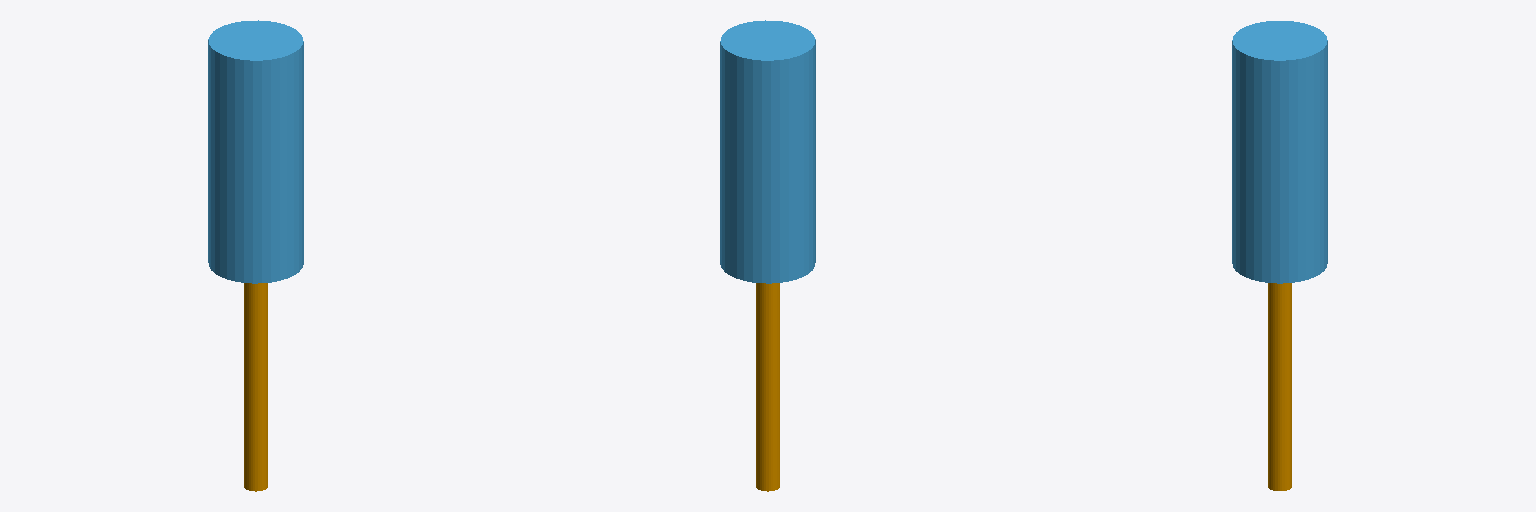
robot.urdf — screwdriver_on_the_table:
<?xml version="1.0" ?>
<!-- this is the one without any virtual joints and links -->
<robot name="screwdriver_on_the_table">
<link name="screwdriver_stick">
    <inertial>
      <mass value="0.05"/>
      <!-- <friction value="1.0"/> -->
      <inertia ixx="0.000041979" ixy="0.0" ixz="0.0" iyy="0.000041979" iyz="0.0" izz="0.000000625"/>
    </inertial>
    <visual>
        <origin rpy="0 0 0" xyz="0 0 0.05"/>
        <geometry>
            <cylinder radius="0.005" length="0.1"/>
        </geometry>
        <!-- <material name="White">
	 	    <color rgba="0.9 0.9 0.9 0.5"/>
        </material> -->
    </visual>
    <collision>
        <origin rpy="0 0 0" xyz="0 0 0.05"/>
        <geometry>
            <cylinder radius="0.005" length="0.1"/>
        </geometry>
    </collision>
</link>

<gazebo reference="screwdriver_body">
    <mu1>0.816765</mu1>
    <mu2>0.872308</mu2>
    <!-- Isaac Sim maps mu1/mu2 to PhysX static/dynamic friction during URDF→USD import -->
</gazebo>

<joint name="screwdriver_stick_body_joint" type="fixed">
    <parent link="screwdriver_stick"/>
    <child link="screwdriver_body"/>
    <origin rpy="0 0 0" xyz="0 0 0.1"/> 
    <axis xyz="0 0 1"/>
</joint>

<link name="screwdriver_body">
    <inertial>
      <mass value="0.093770"/>
      <inertia ixx="0.000086952" ixy="0.0" ixz="0.0" iyy="0.000086952" iyz="0.0" izz="0.000017620"/>
    </inertial>
    <visual>
        <origin rpy="0 0 0" xyz="0 0 0.05"/>
        <geometry>
            <cylinder radius="0.019386" length="0.1"/>
        </geometry>
        <!-- <material name="Red1">
	 	    <color rgba="0.9 0. 0. 0.5"/>
        </material> -->
    </visual>
    <collision>
        <origin rpy="0 0 0" xyz="0 0 0.05"/>
        <geometry>
            <cylinder radius="0.019386" length="0.1"/>
        </geometry>
    </collision>
</link>

<!-- <joint name="screwdriver_body_cap_joint" type="revolute">
    <parent link="screwdriver_body"/>
    <child link="screwdriver_cap"/>
    <origin rpy="0 0 0" xyz="0 0 0.1"/> 
    <axis xyz="0 0 1"/>
</joint>

<link name="screwdriver_cap">
    <inertial>
      <mass value="0.005"/>
      <inertia ixx="0.00001" ixy="0.0" ixz="0.0" iyy="0.000005" iyz="0.0" izz="0.000005"/>
    </inertial>
    <visual>
        <origin rpy="0 0 0" xyz="0 0 0.0006"/>
        <geometry>
            <cylinder radius="0.02" length="0.001"/>
        </geometry>
        <material name="Yellow">
	 	    <color rgba="0.9 0.9 0. 1.0"/>
        </material>
    </visual>
    <collision>
        <origin rpy="0 0 0" xyz="0 0 0.0005"/>
        <geometry>
            <cylinder radius="0.02" length="0.001"/>
        </geometry>
    </collision>
</link> -->

</robot>

--- What the picture shows (computed from the rendered views, not written in the file) ---
Views: 3 orthographic renders of the robot side by side, from view 1: azimuth 30°, elevation 25°; view 2: azimuth 150°, elevation 25°; view 3: azimuth 270°, elevation 25°.
Robot: screwdriver_on_the_table — 2 links, 1 joints (1 fixed); root link screwdriver_stick; default pose: every joint at zero.
Links seen in each view (by area): view 1: screwdriver_body, screwdriver_stick; view 2: screwdriver_body, screwdriver_stick; view 3: screwdriver_body, screwdriver_stick.
Link boxes in pixels (x1,y1,x2,y2): screwdriver_body: [208, 20, 303, 283]; screwdriver_stick: [244, 283, 267, 491]; screwdriver_body: [720, 20, 815, 283]; screwdriver_stick: [756, 283, 779, 491]; screwdriver_body: [1232, 21, 1327, 283]; screwdriver_stick: [1268, 283, 1291, 490].
Size in the robot's own frame: 0.0388 by 0.0388 by 0.2 metres.
Geometry: primitives only (box / cylinder / sphere), no mesh files.
